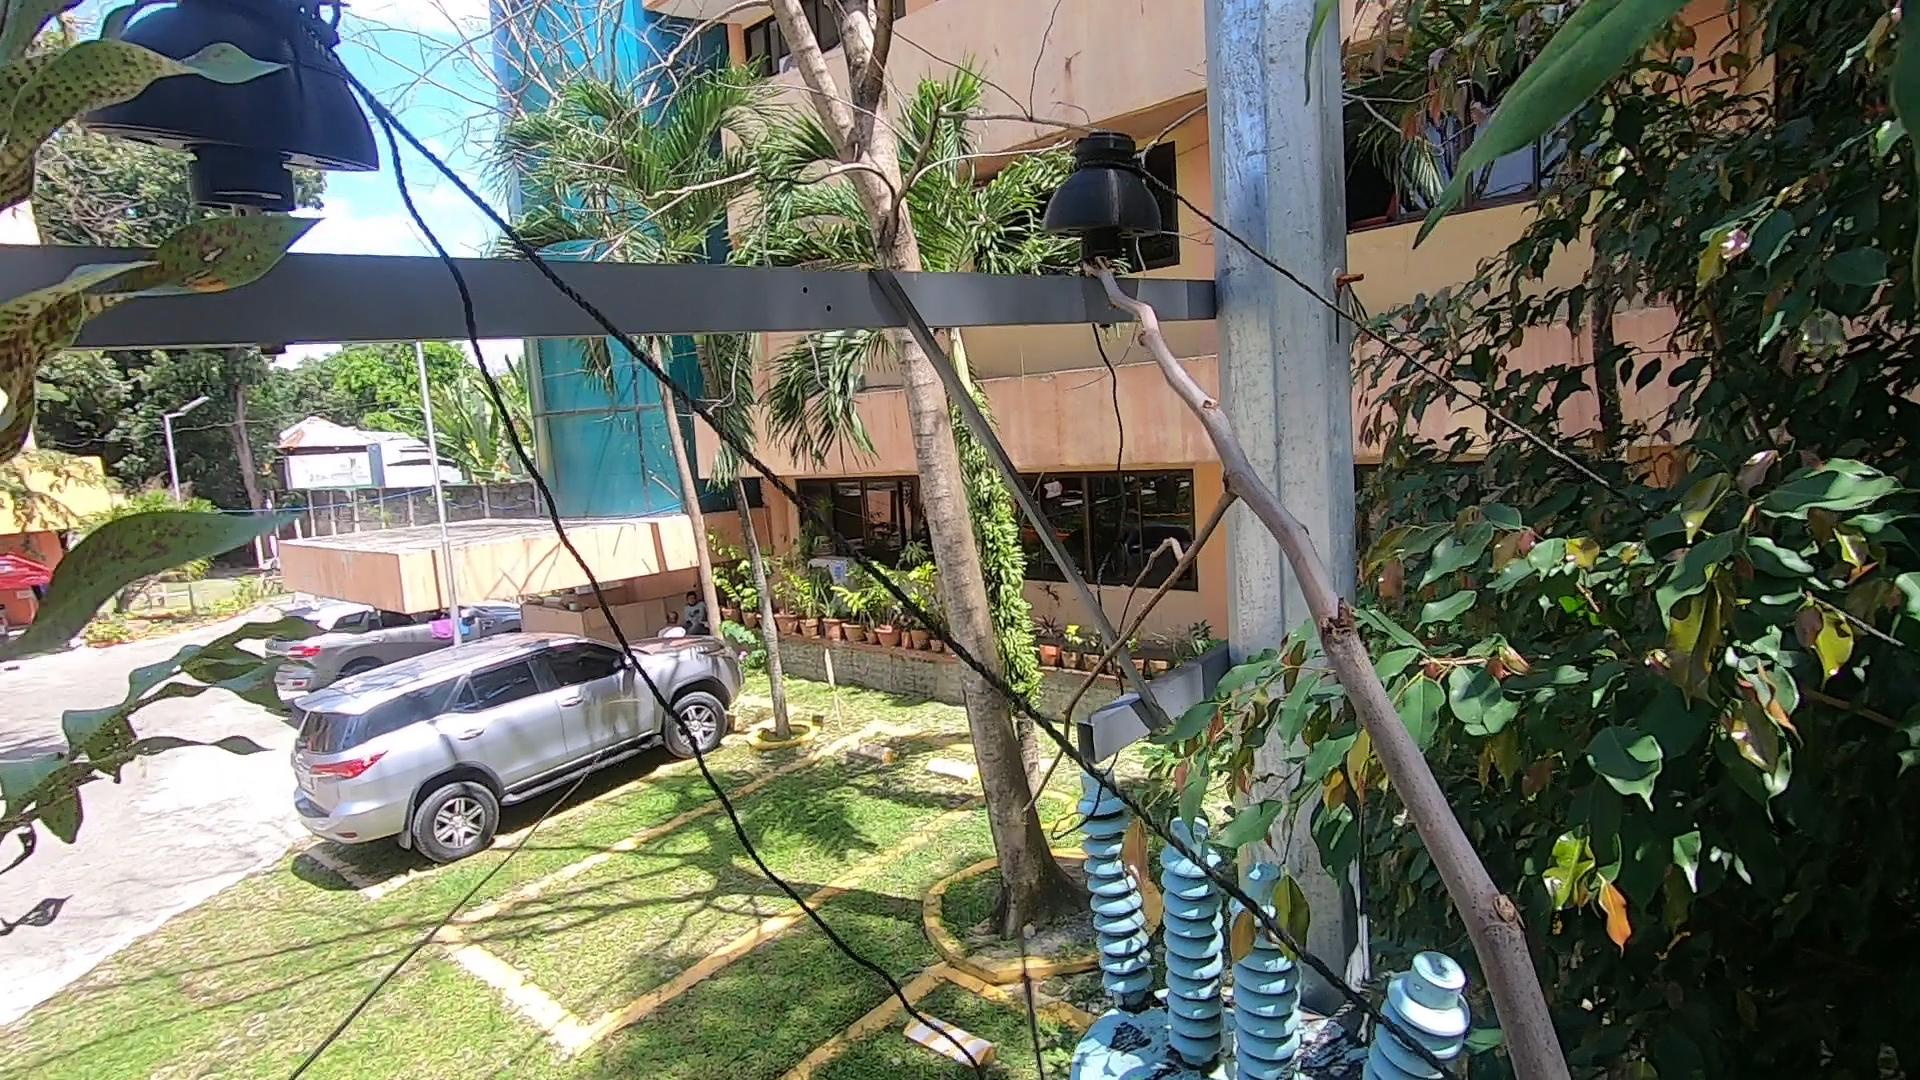branch with leaves: (1110, 595, 1387, 992)
leaf: (4, 1, 375, 771), (1288, 1040, 1374, 1080), (1153, 1040, 1221, 1080), (1118, 984, 1170, 1025)
tree branch: (1047, 224, 1609, 1080)
